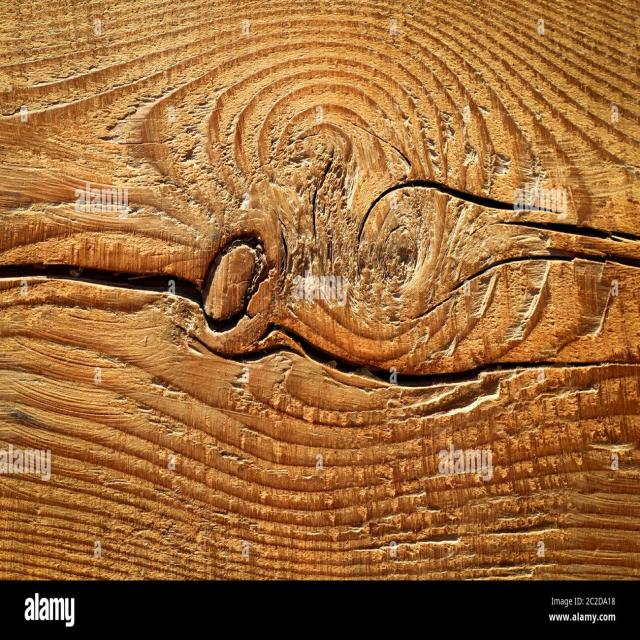have-wooden-eyes: (204, 245, 255, 320)
